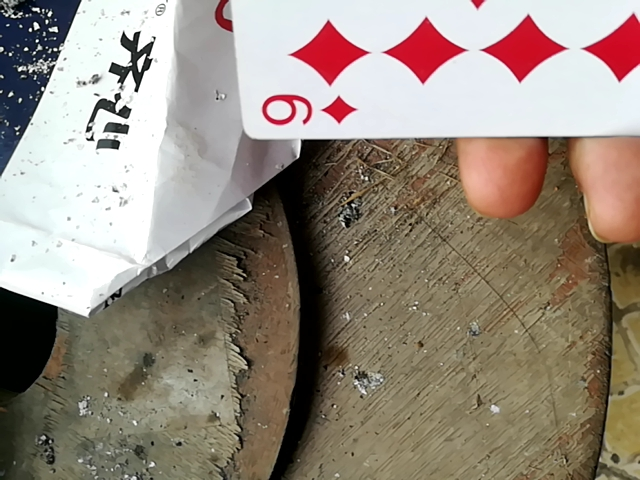fk 9: (207, 0, 640, 133)
